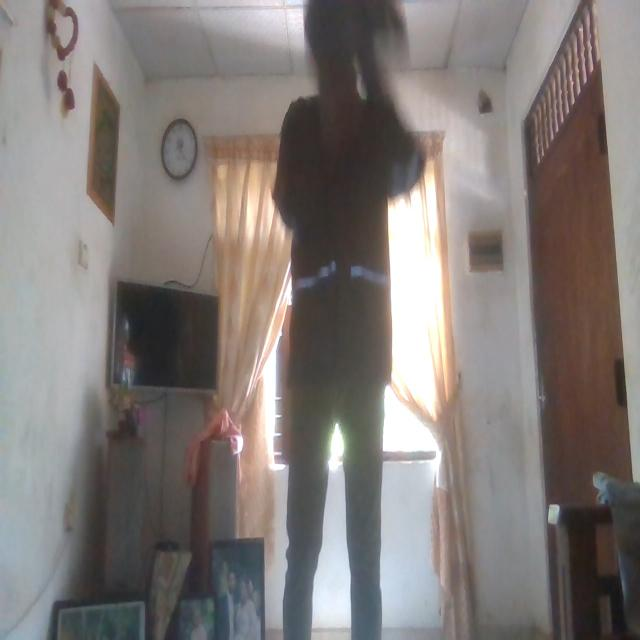Jacket_Wearer: (276, 82, 410, 418)
Person: (271, 0, 412, 636)
